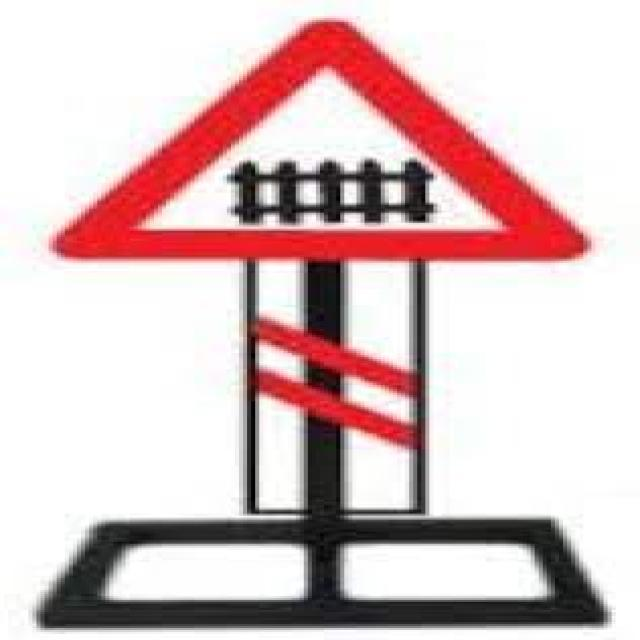guarded level crossing: (51, 26, 587, 255)
